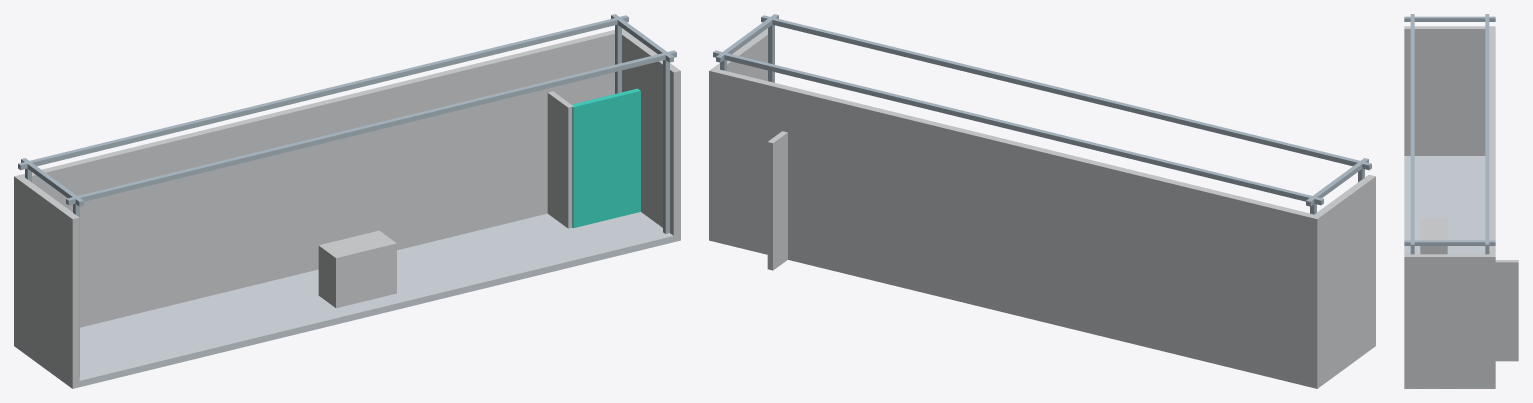
The picture shows the model from 3 angles, left to right: view 1: azimuth 30°, elevation 25°; view 2: azimuth 150°, elevation 25°; view 3: azimuth 270°, elevation 25°; orthographic projection. The views are drawn at different scales.
Visible parts, largest first — view 1: Exhibition Booth Concept; view 2: Exhibition Booth Concept; view 3: Exhibition Booth Concept.
Part boxes in pixels (left/top/right/bottom): Exhibition Booth Concept: left=14, top=14, right=680, bottom=388; Exhibition Booth Concept: left=709, top=14, right=1375, bottom=388; Exhibition Booth Concept: left=1404, top=14, right=1518, bottom=388.
Size of the model in its own units: 12 by 3.49 by 2.5.
